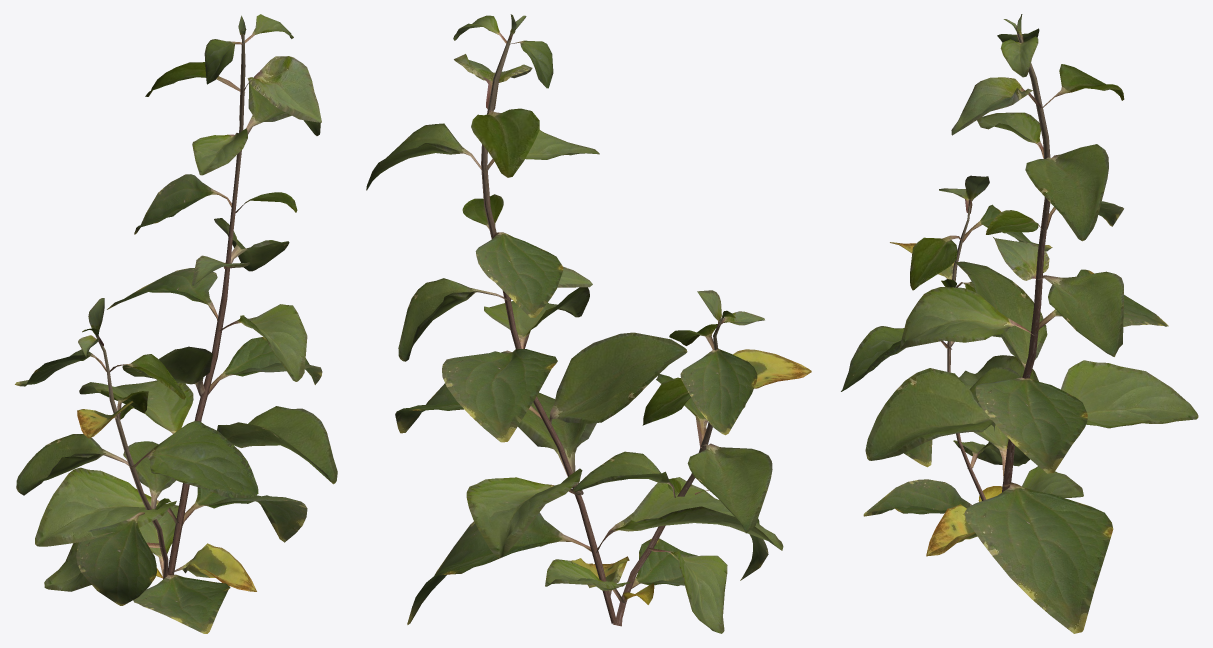
The model's file is shrub_d.glb.
The picture shows the model from 3 angles, left to right: view 1: azimuth 30°, elevation 25°; view 2: azimuth 150°, elevation 25°; view 3: azimuth 270°, elevation 25°; orthographic projection. The views are drawn at different scales.
Parts seen in each view (by area): view 1: shrub_d; view 2: shrub_d; view 3: shrub_d.
Boxes of the visible parts, x1,y1,x2,y2 form: shrub_d: (15,14,337,633); shrub_d: (366,14,811,633); shrub_d: (841,14,1198,633).
Size of the model in its own units: 0.2312 by 0.3717 by 0.2061.
1 material, 1 textured.
